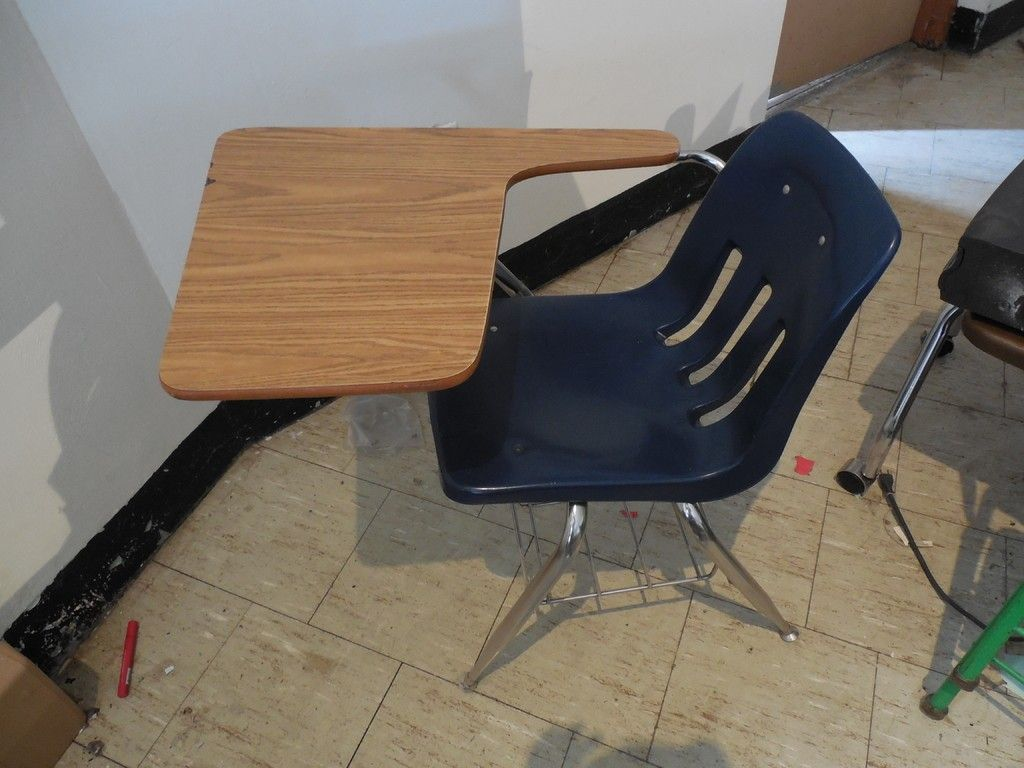desk: (175, 100, 894, 690)
